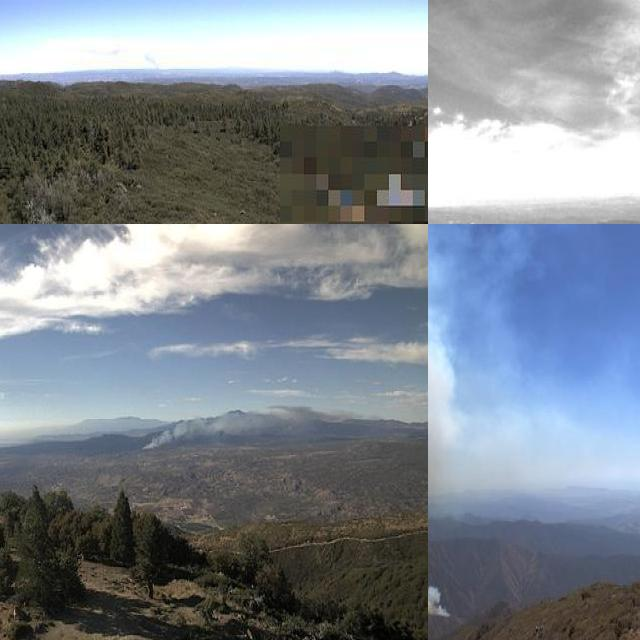smoke: (139, 406, 292, 452), (137, 53, 164, 80)
